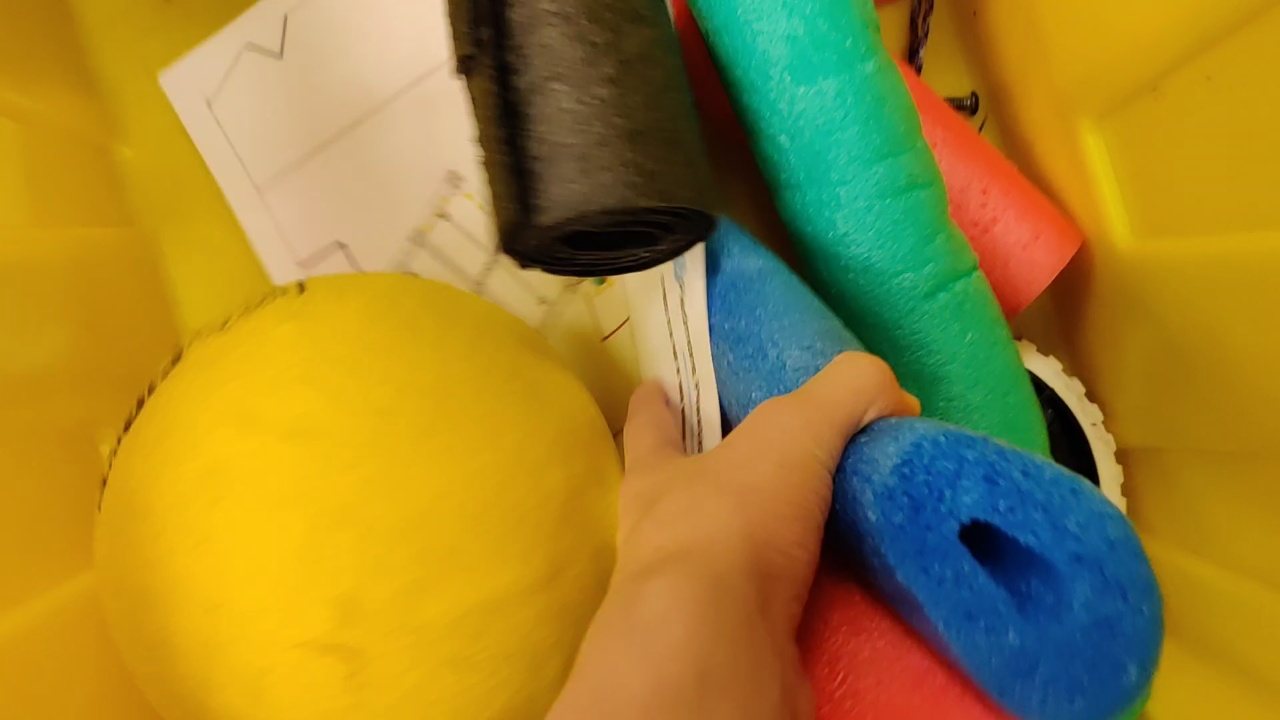Ball: (92, 273, 619, 720)
